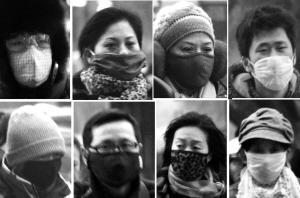OK: (6, 30, 59, 83), (91, 133, 143, 185), (169, 35, 216, 87), (245, 138, 290, 183), (169, 135, 212, 178), (26, 149, 63, 188)
WRONG: (251, 37, 297, 87), (98, 35, 143, 80)
